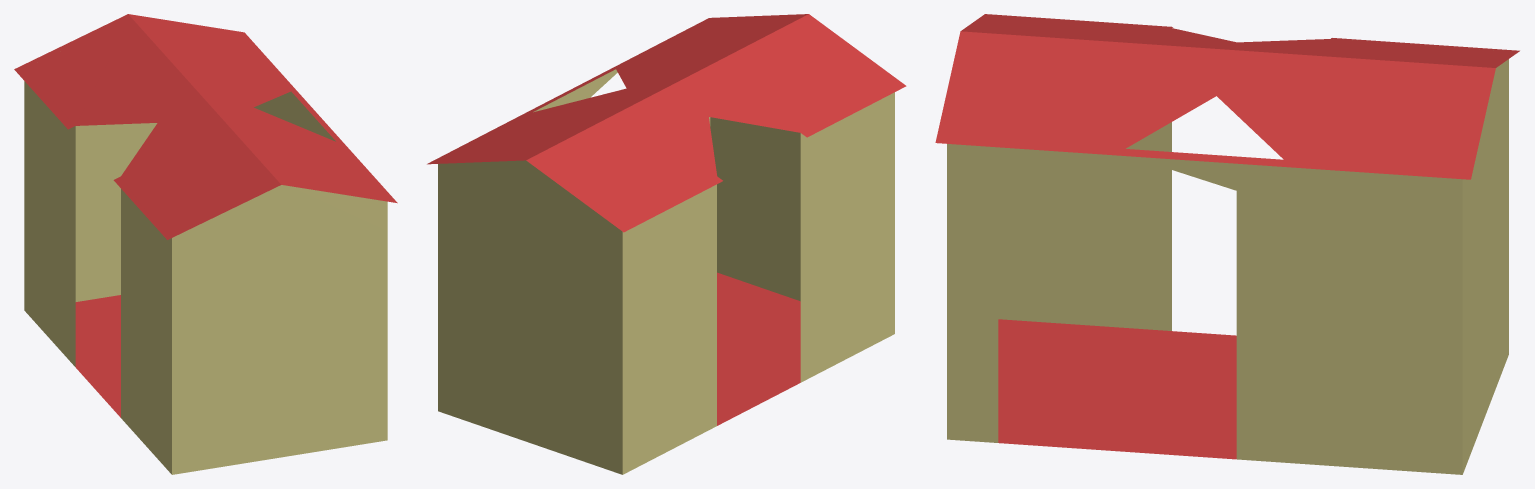
3 views of the same model, side by side, from view 1: azimuth 30°, elevation 25°; view 2: azimuth 150°, elevation 25°; view 3: azimuth 270°, elevation 25° (orthographic). The views are drawn at different scales.
Bounding box in the file's own units: 9.83 × 14.66 × 9.58.
